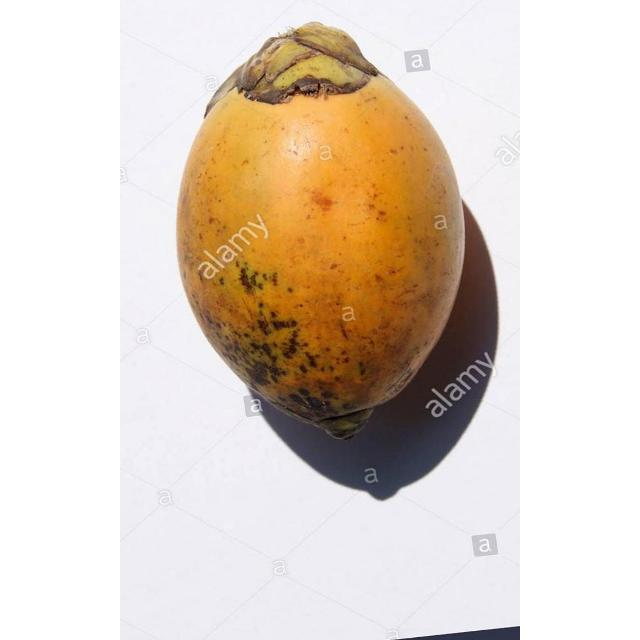good: (177, 23, 464, 439)
